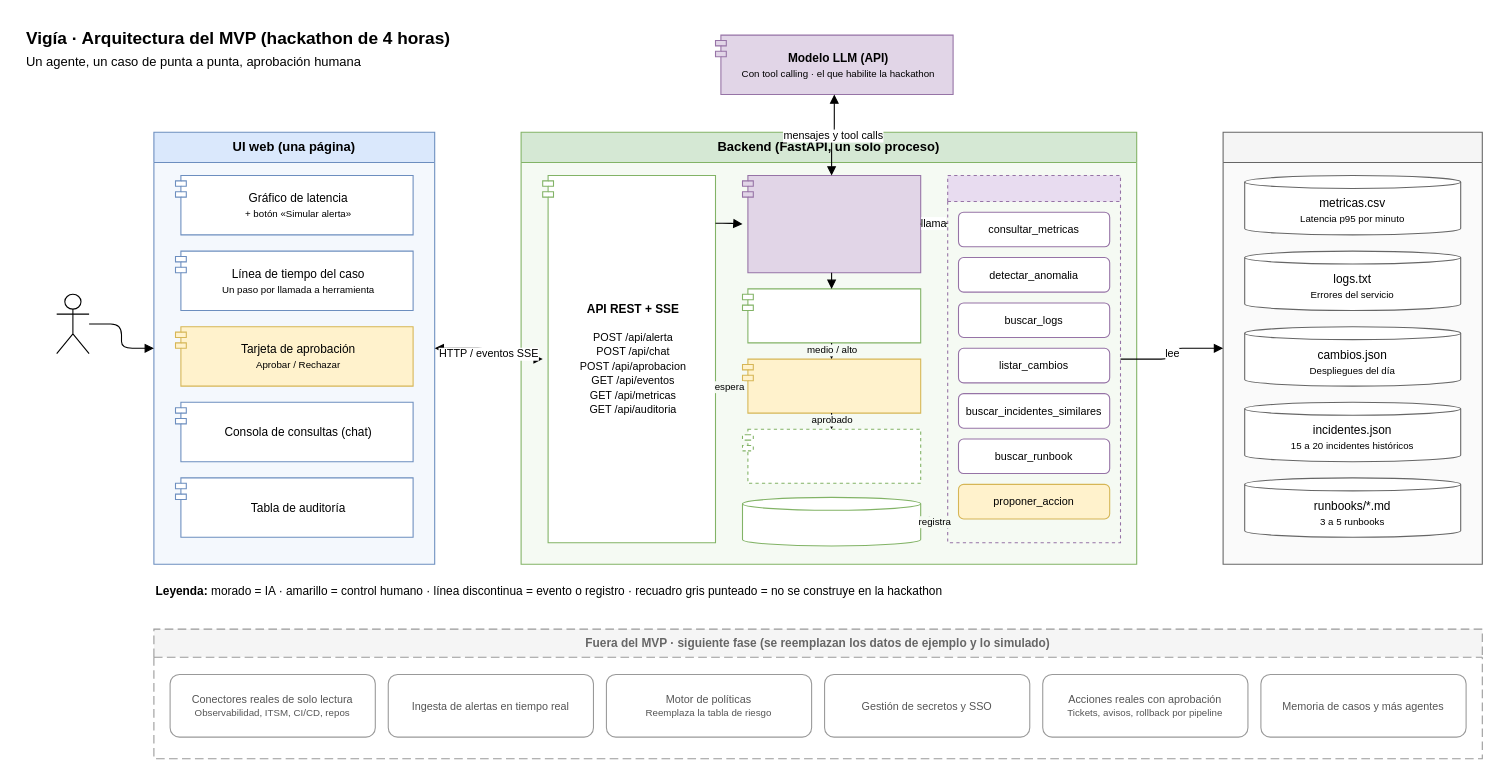
Some shapes in this 1501 by 778 pixel diagram are drawn without their labels. The box of each missing label's shape, as (x1, y1, x2, y2) in pixels:
7 herramientas (funciones Python): (947, 174, 1120, 543)
Agente Bucle de tool calling: el modelo decide qué herramienta usar: (741, 174, 921, 273)
audit.jsonl: (741, 496, 921, 546)
Datos de ejemplo (archivos locales): (1222, 131, 1482, 564)
Ejecutor de acciones SIMULADO: no toca sistemas reales: (741, 428, 921, 483)
Pausa por aprobación Estado del caso en memoria: (741, 358, 921, 413)
Tabla de riesgo por acción bajo · medio · alto: (741, 288, 921, 343)
Usuario y aprobador: (56, 293, 89, 354)
